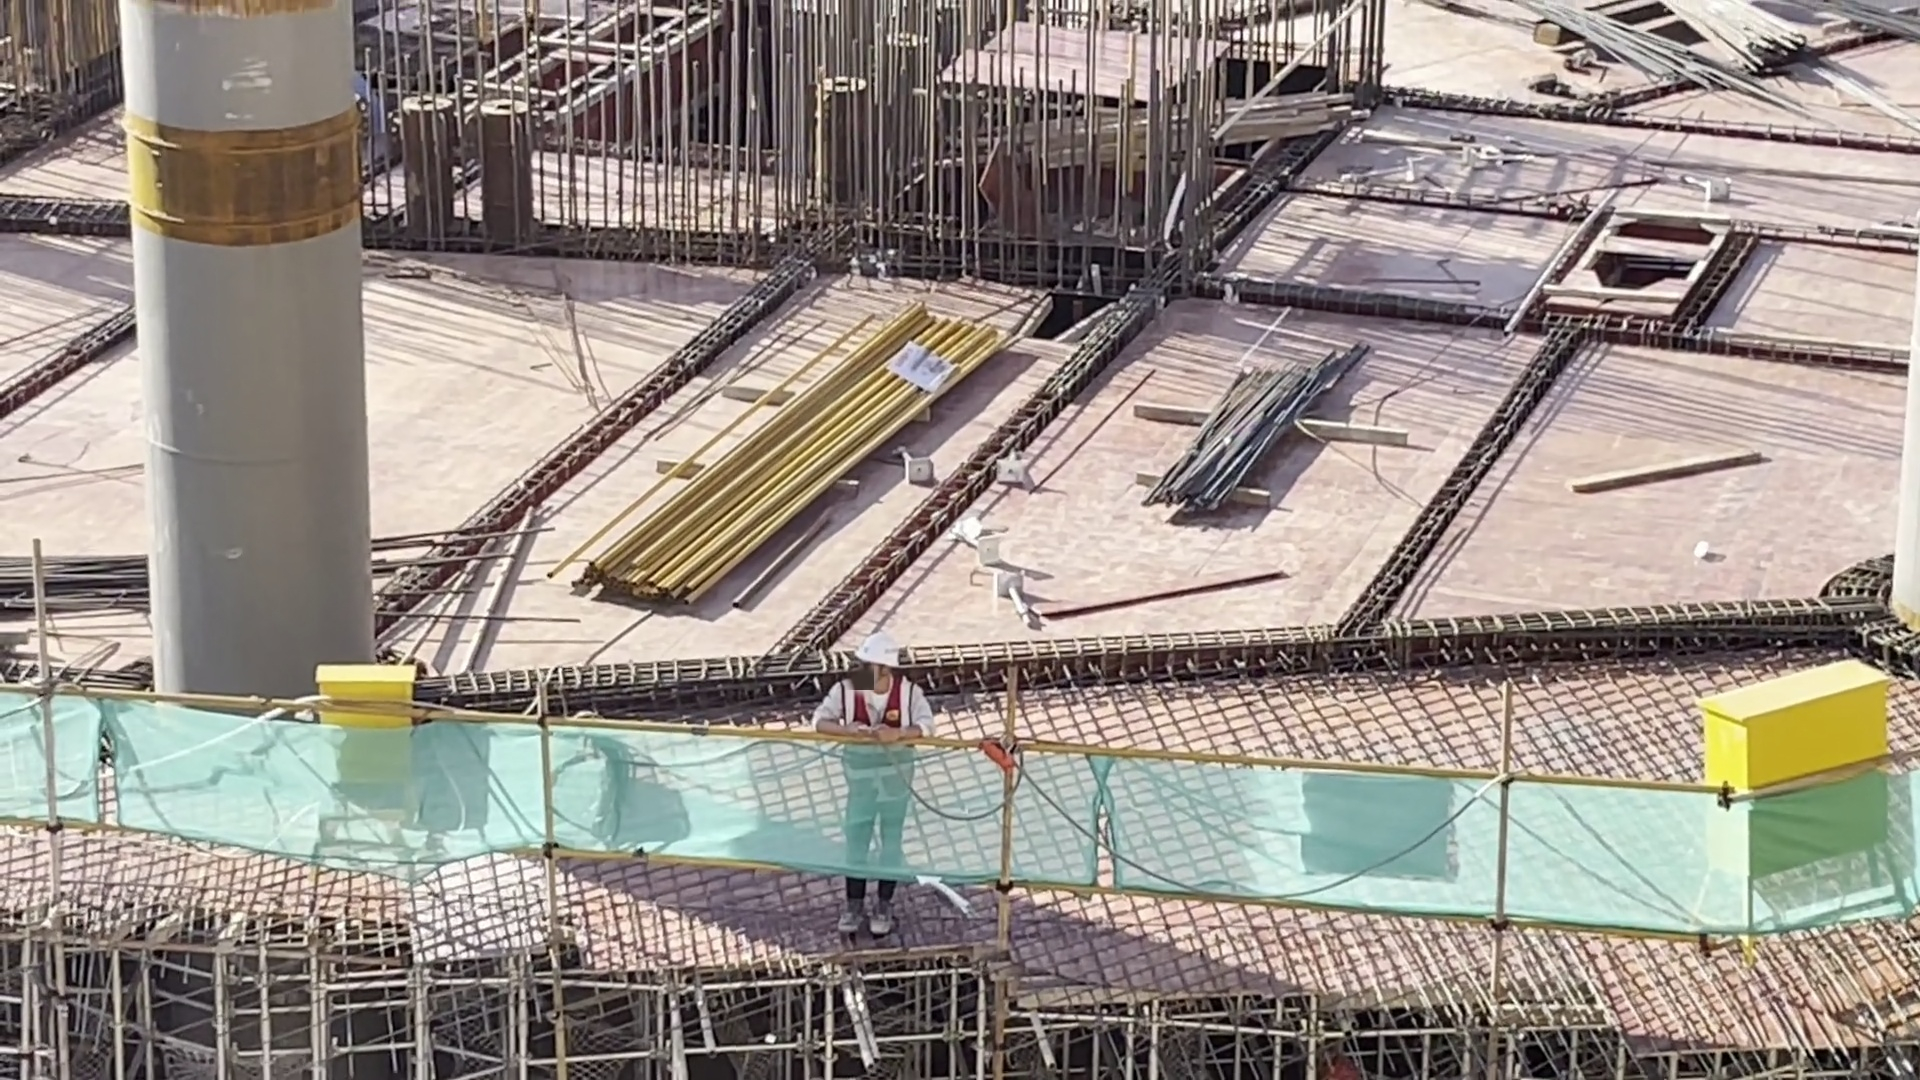helmet: (856, 626, 909, 676)
person: (815, 629, 945, 941)
vest: (842, 685, 912, 809)
